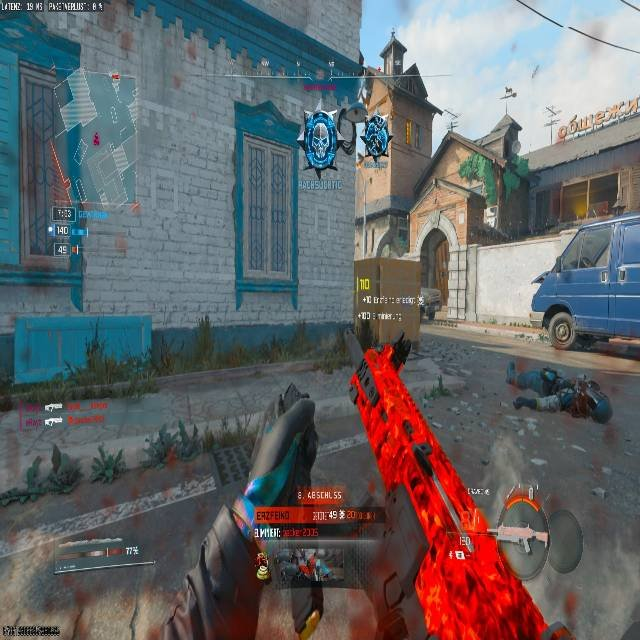head: (589, 396, 612, 424)
